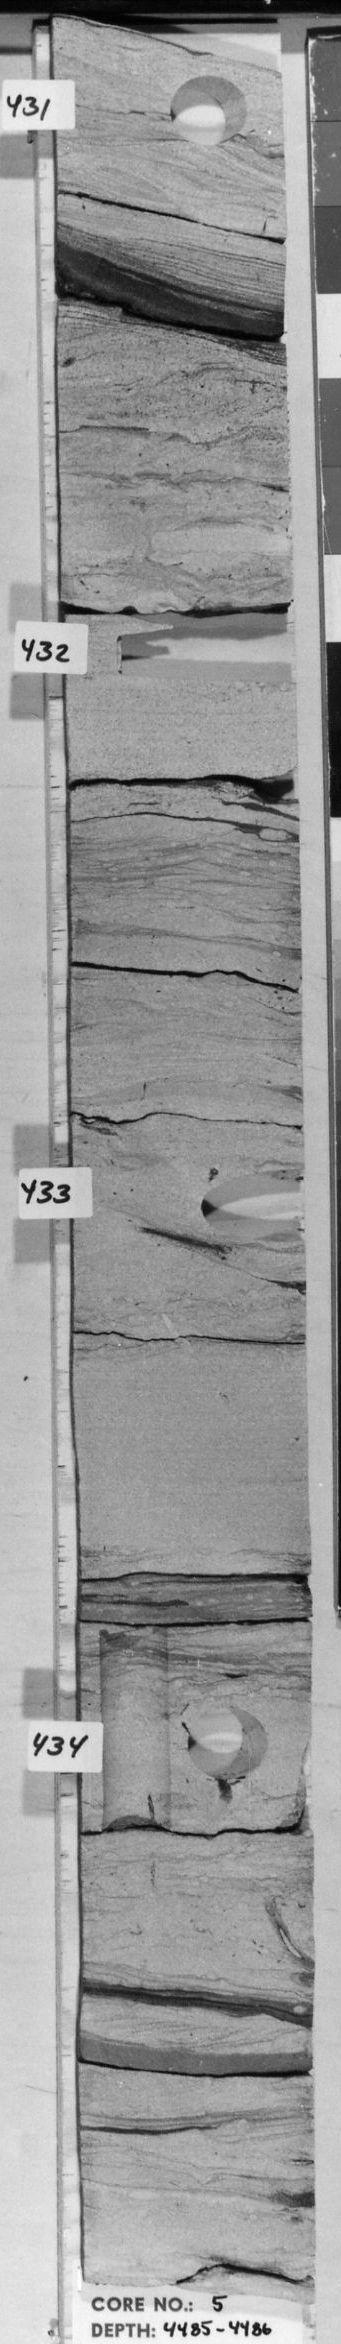hplug: (109, 617, 298, 695), (197, 1163, 304, 1245), (179, 1703, 277, 1786), (159, 63, 254, 146)
vplug: (93, 1625, 181, 1840)
